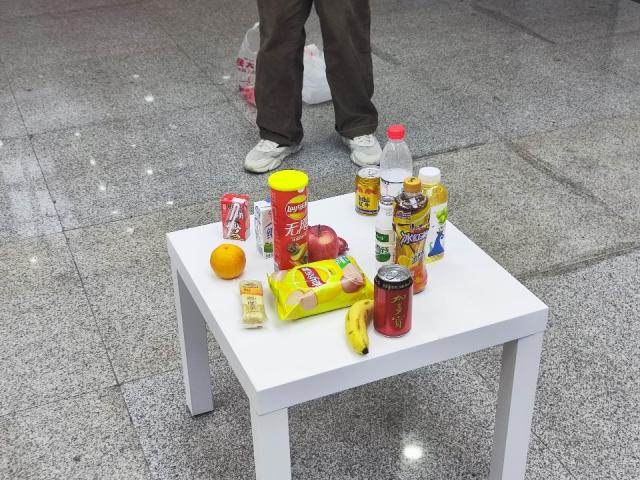Canned_drinks: (373, 262, 414, 335), (355, 163, 382, 213)
drink_box: (216, 188, 254, 248)
